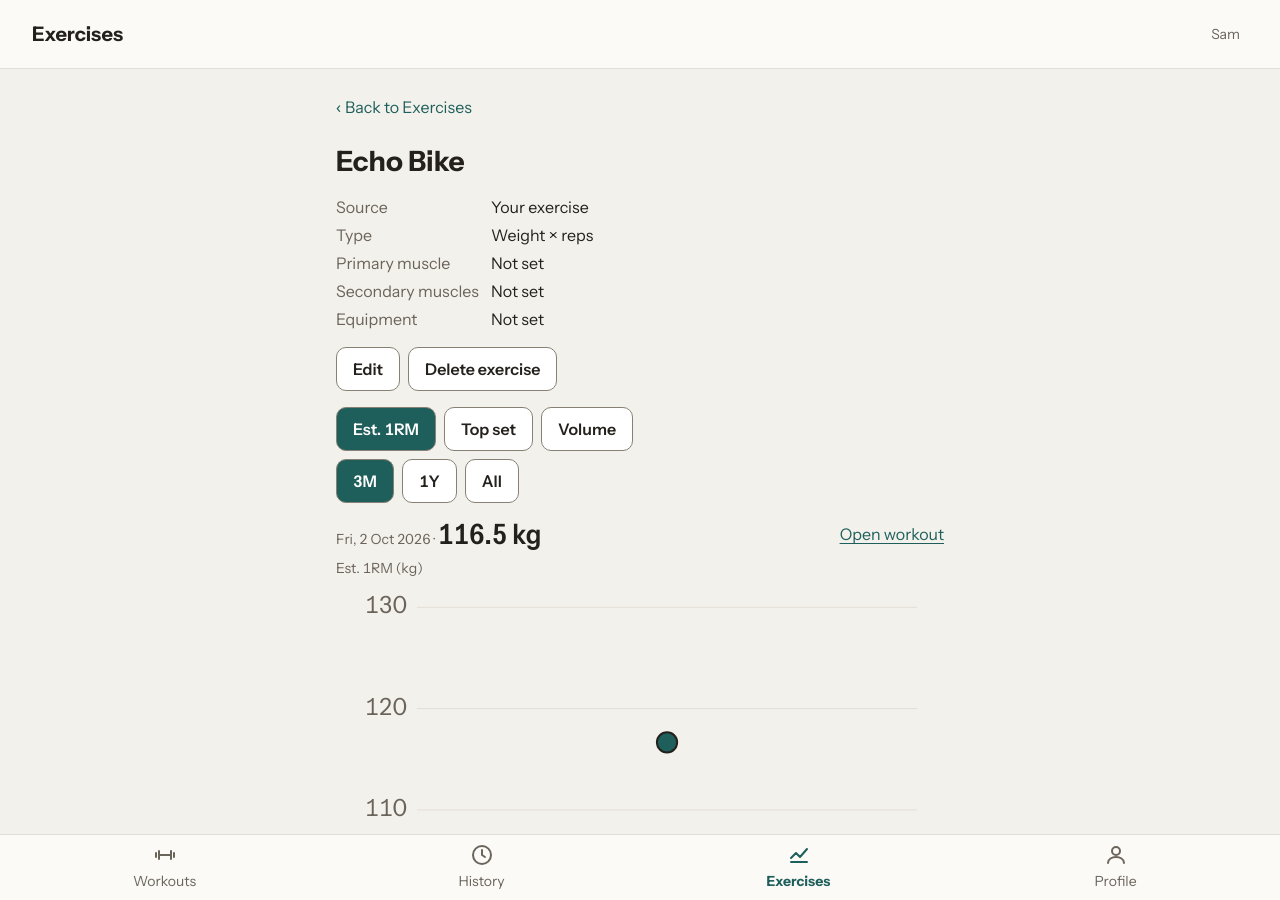
Test: 18.2 AC37 — options on screen › logged: only the compatible types are enabled, with the note
Click the button "Edit" at x=368, y=369, box [336, 347, 400, 391]
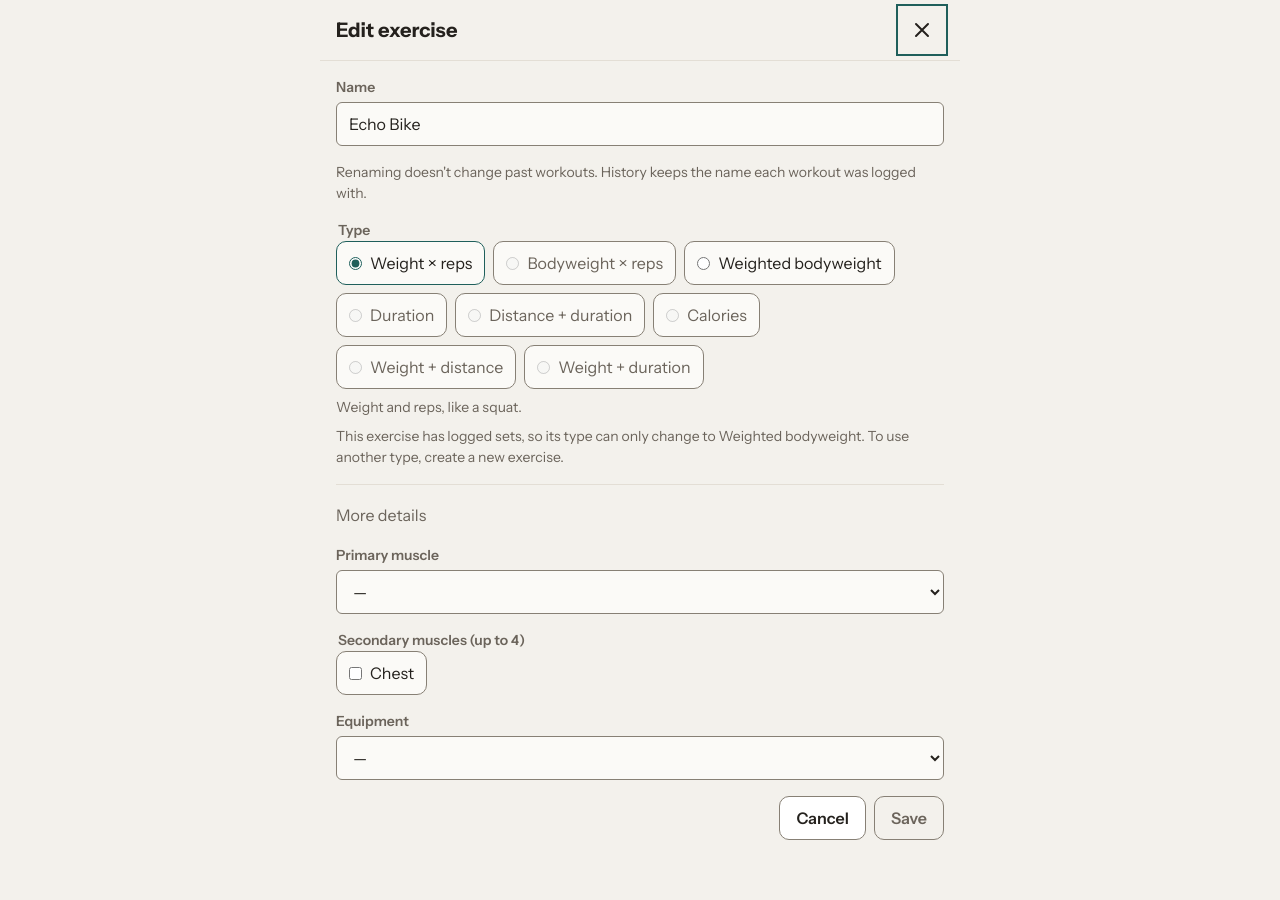
Now the radio button labelled "Calories" is disabled, box [666, 308, 679, 322]
